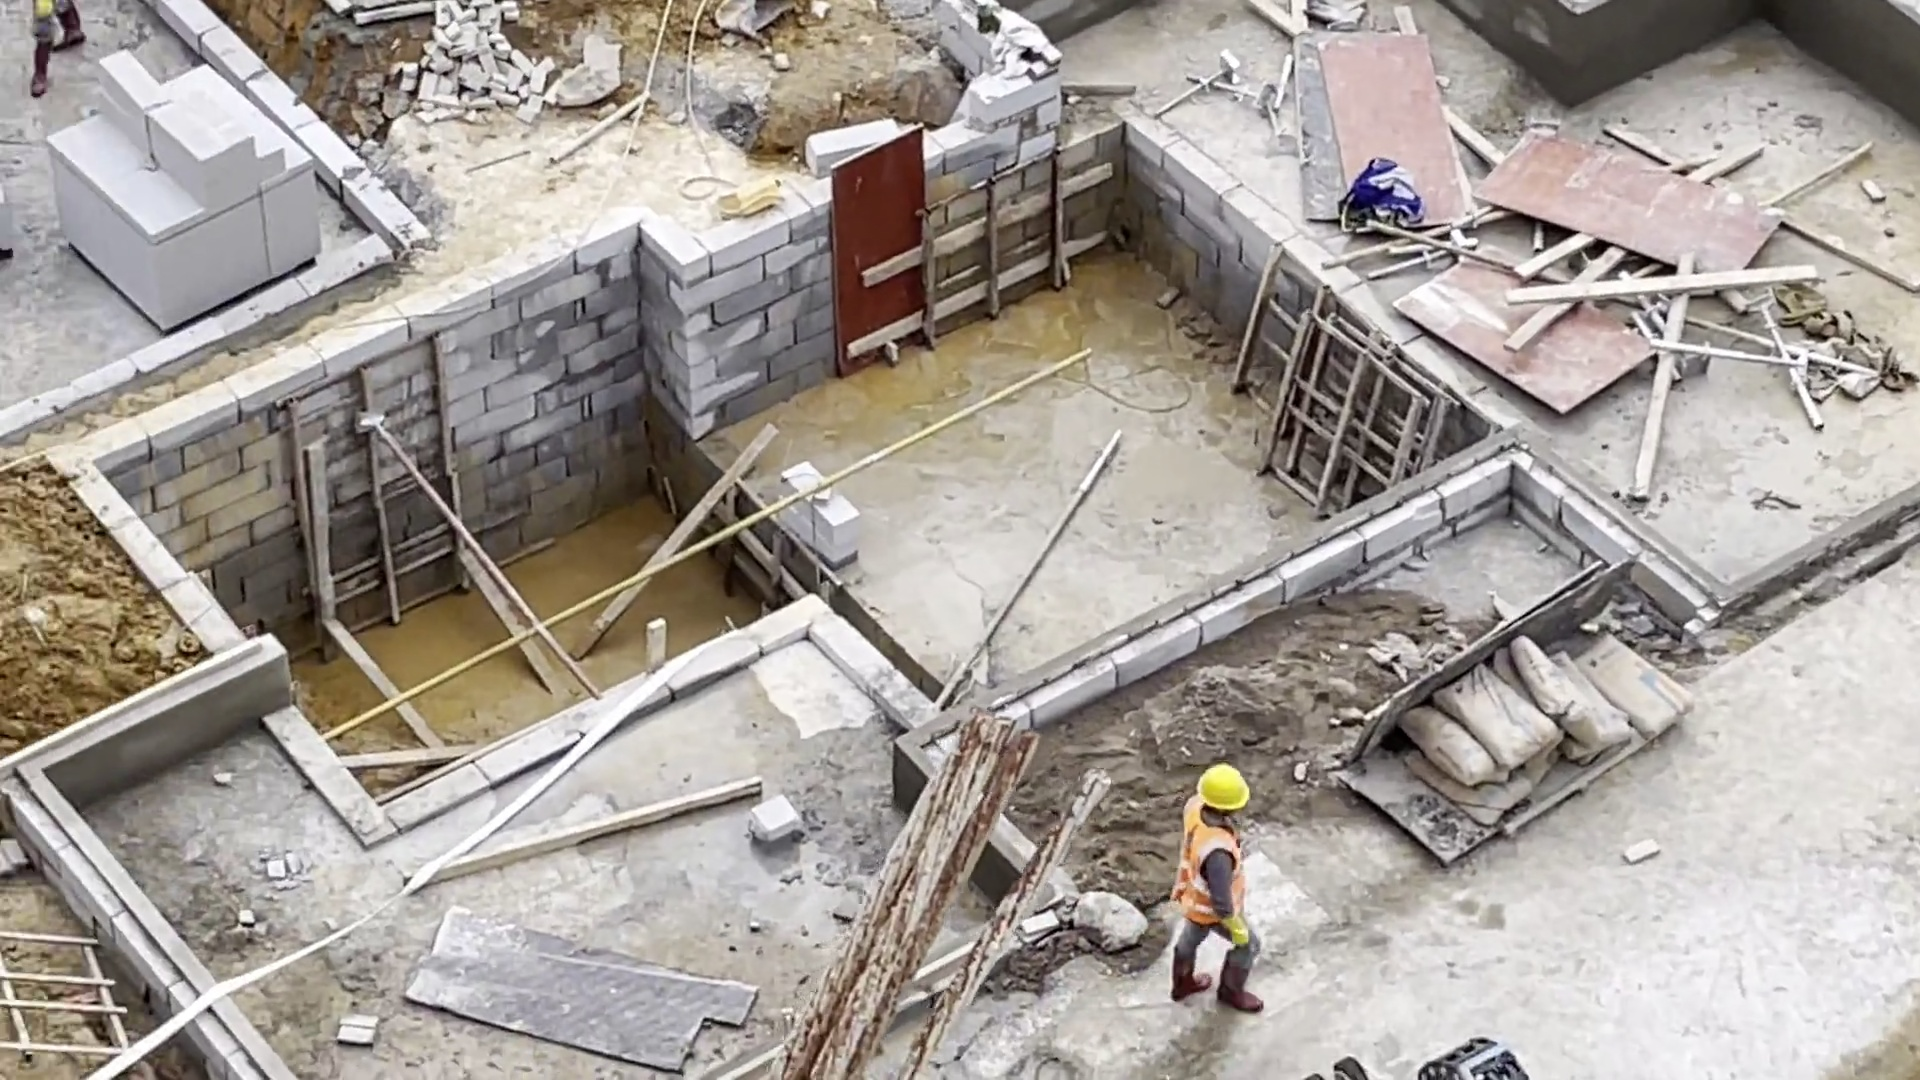brick: (41, 51, 325, 343)
helmet: (1195, 761, 1254, 815)
person: (1166, 758, 1269, 1022)
vest: (1182, 815, 1247, 932)
